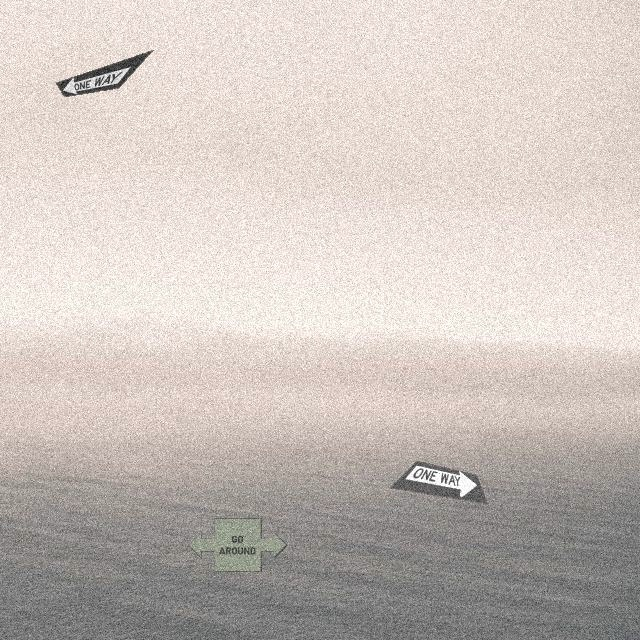GO_AROUND: (188, 518, 287, 572)
ONE_WAY_ left: (55, 49, 154, 97)
ONE_WAY_ right: (389, 460, 488, 504)
